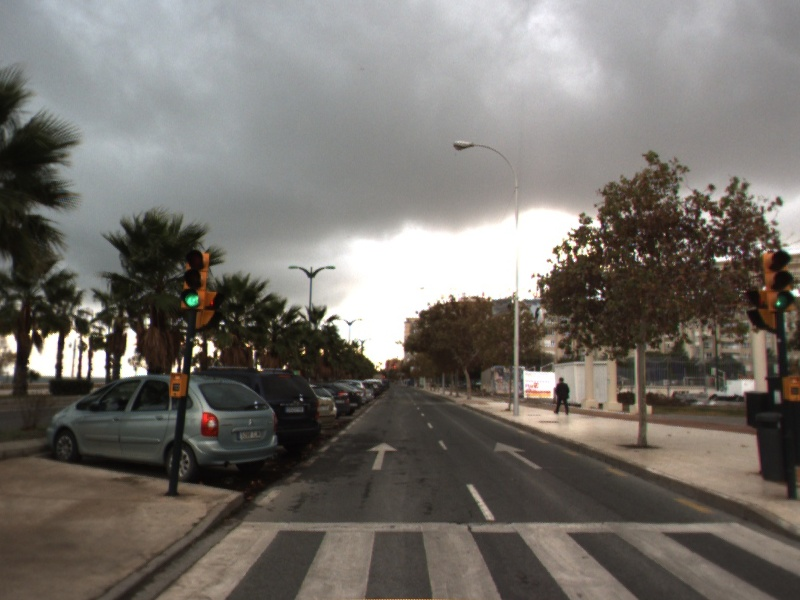STRAIGHT: (492, 441, 545, 471), (364, 441, 399, 472)
